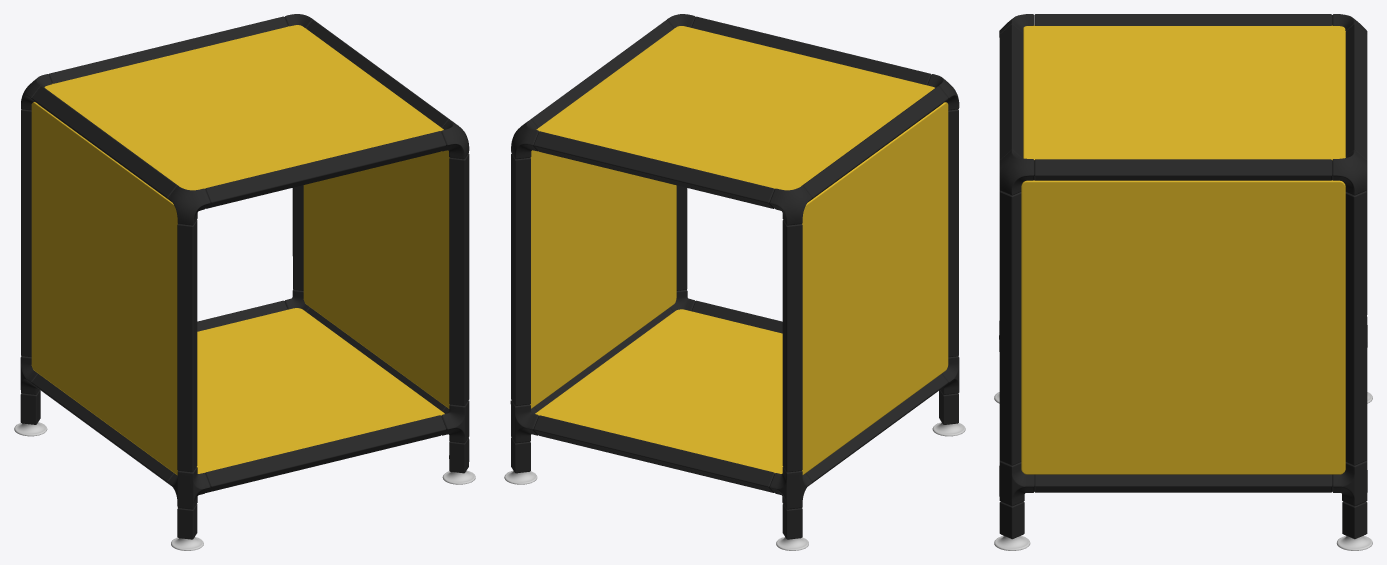
3 renders of one model, left to right at view 1: azimuth 30°, elevation 25°; view 2: azimuth 150°, elevation 25°; view 3: azimuth 270°, elevation 25°, orthographic. The views are drawn at different scales.
Parts seen in each view (by area): view 1: 329x329x329; view 2: 329x329x329; view 3: 329x329x329.
Part boxes in pixels (<box>): 329x329x329: <box>14,14,475,550</box>; 329x329x329: <box>504,14,965,550</box>; 329x329x329: <box>994,14,1372,550</box>.
Bounding box in the file's own units: 0.4189 × 0.4683 × 0.4183.
